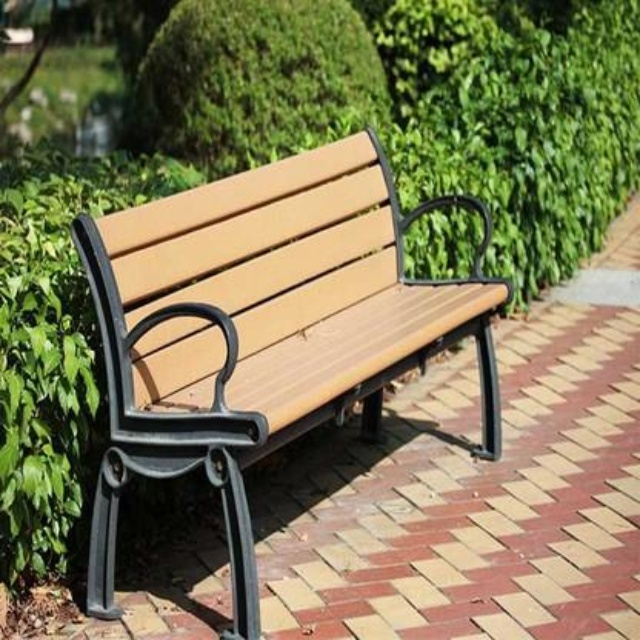obstacle: (55, 103, 517, 634)
